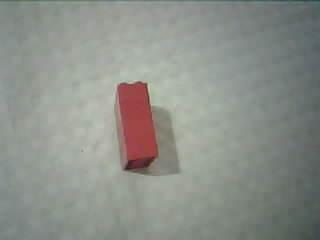lego: (112, 81, 159, 170)
